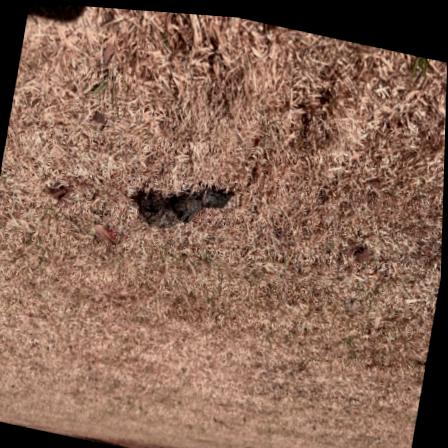dog-poop: (132, 167, 233, 243)
